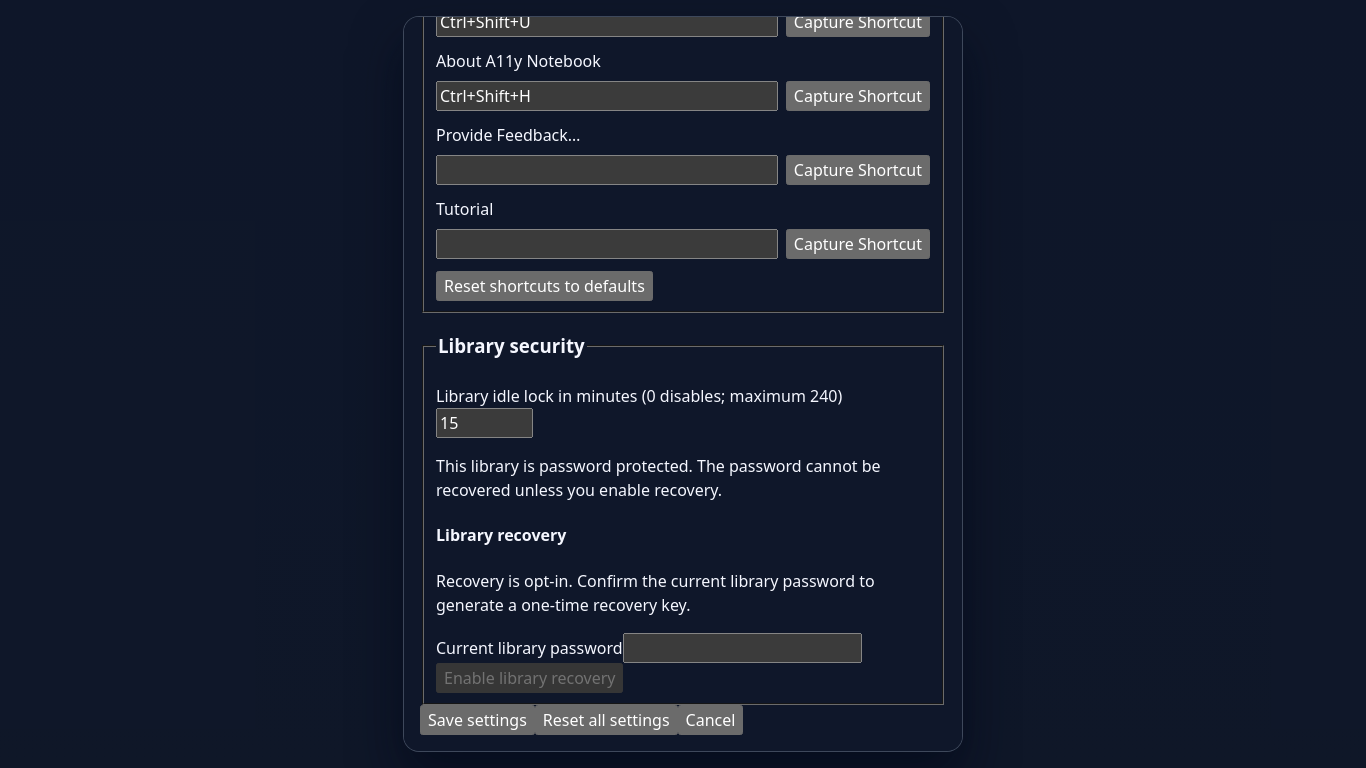
Test: security controls › prevents overlapping recovery preparation and allows retry after a failure
(page scrolled)
Type "correct horse battery" into the password field labelled "Current library password". click: (742, 648)
box: [623,632,862,662]
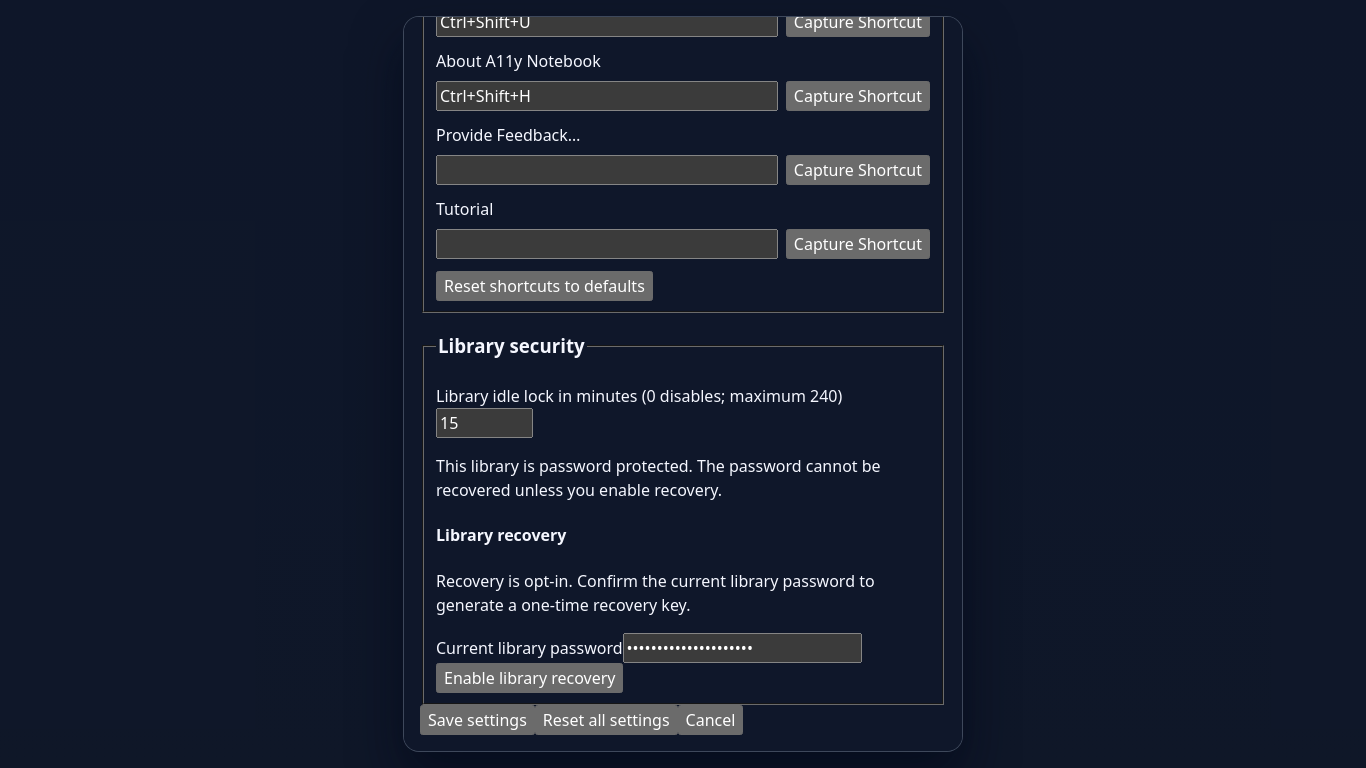
Click the button "Enable library recovery". click: (530, 678)
box: [436,662,624,692]
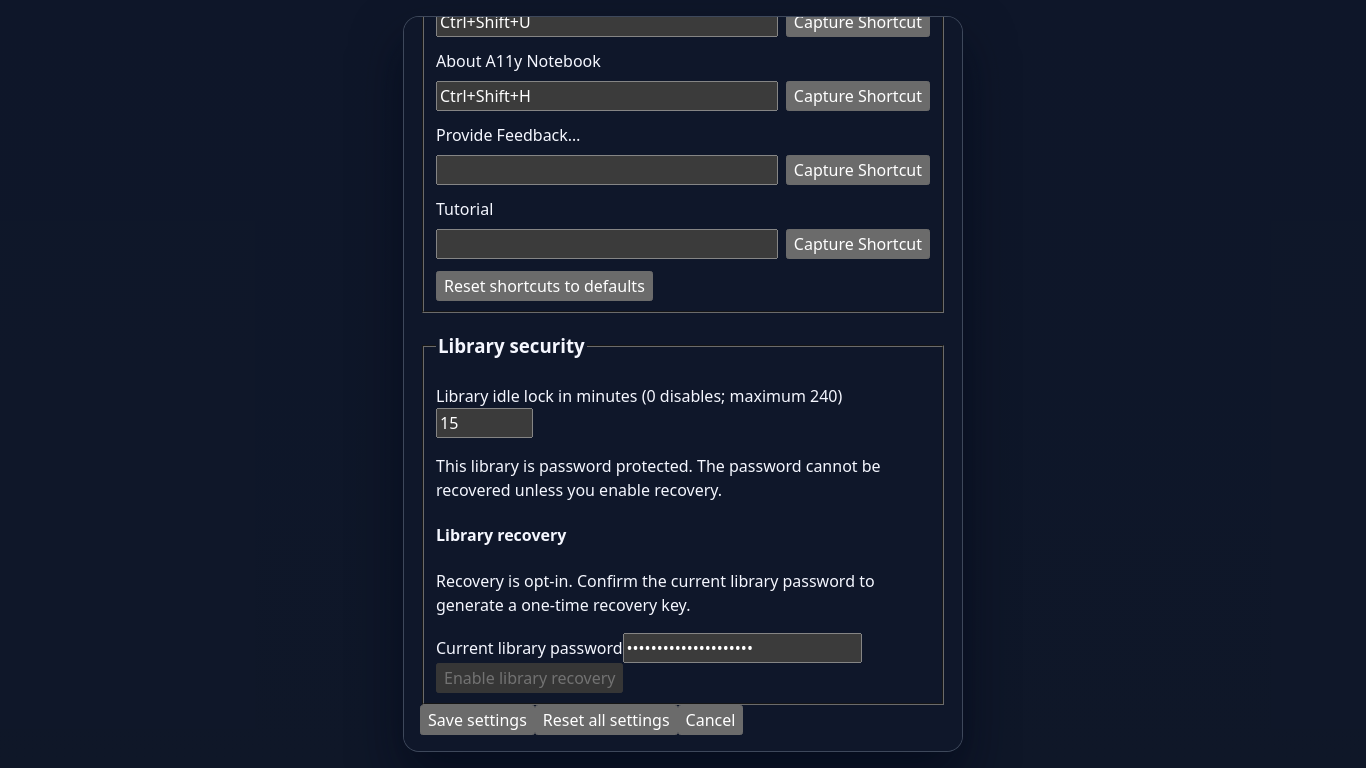
Now the button "Enable library recovery" is disabled
Click the button "Enable library recovery". click: (530, 678)
box: [436,662,624,692]
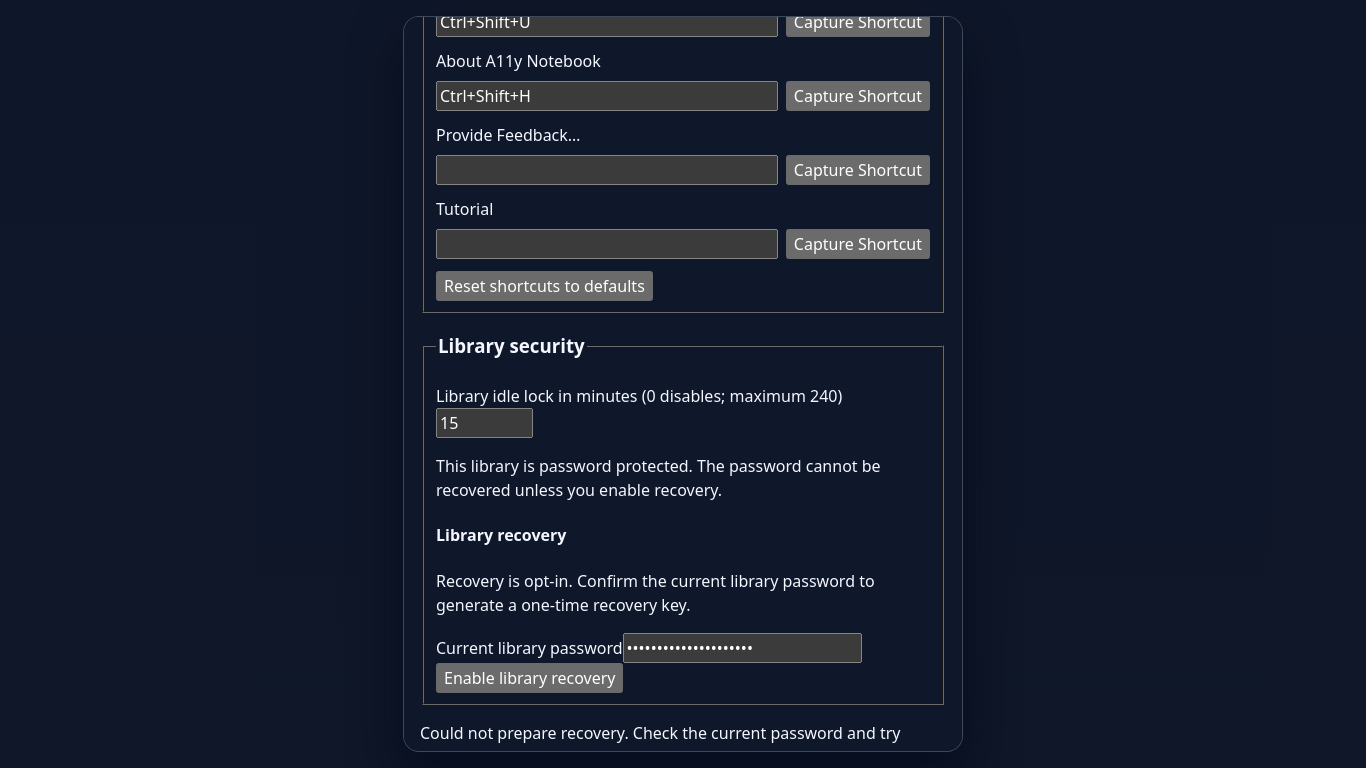
Now the message shows "Could not prepare recovery", box [420,722,900,752]
Now the button "Enable library recovery" is enabled
Click the button "Enable library recovery". click: (530, 678)
box: [436,662,624,692]
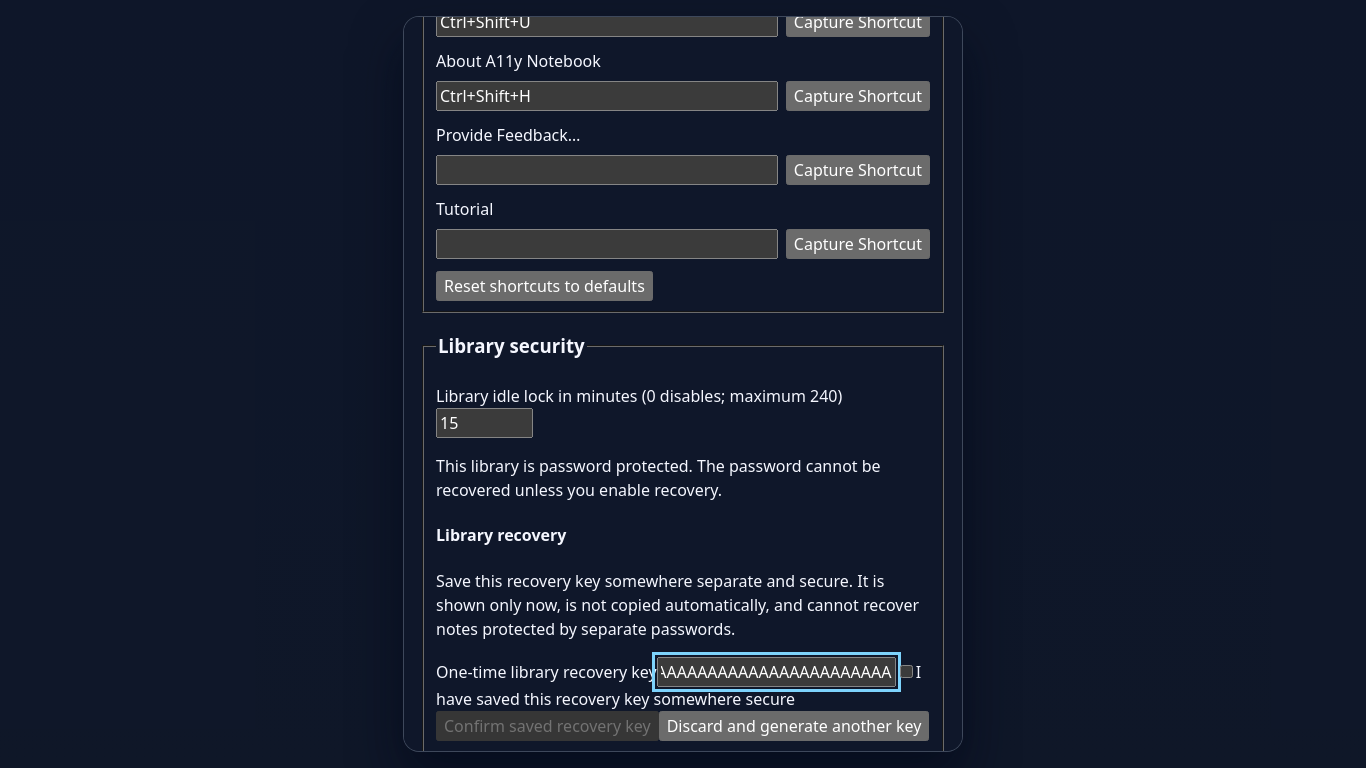
Now the button "Confirm saved recovery key" is disabled, box [436,710,659,740]
